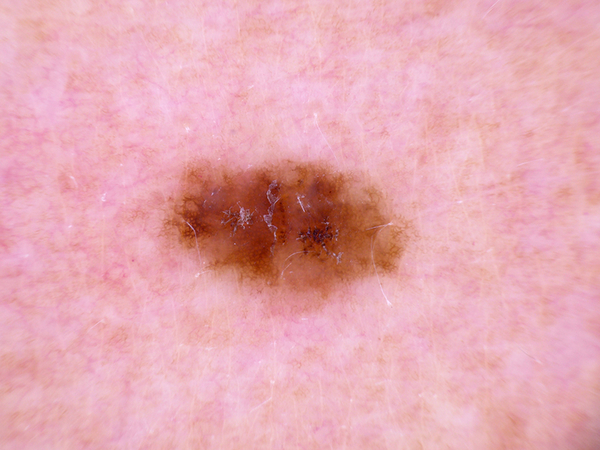Detected Lesion: (161, 154, 421, 310)
